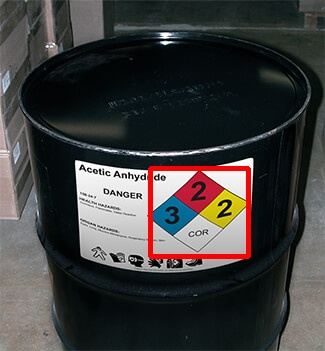nfpa: (150, 168, 248, 256)
